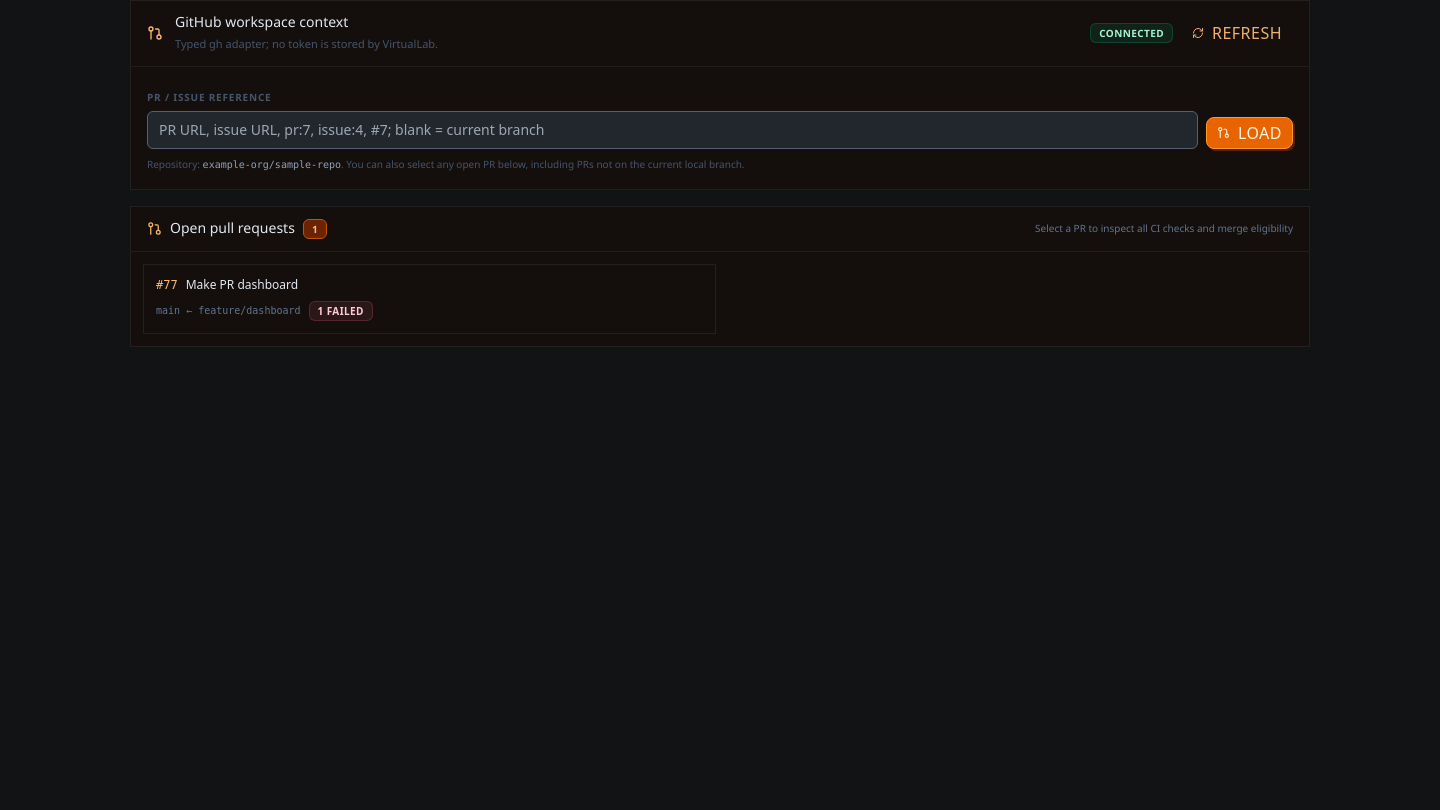
Test: GithubPanel › blocks merge when CI fails or is pending, or GitHub status is unknown
The width and height of the screenshot is (1440, 810).
Click the button with aria-label "Open PR #77".
click(242, 284)  # box [143,264,716,334]
(page scrolled)
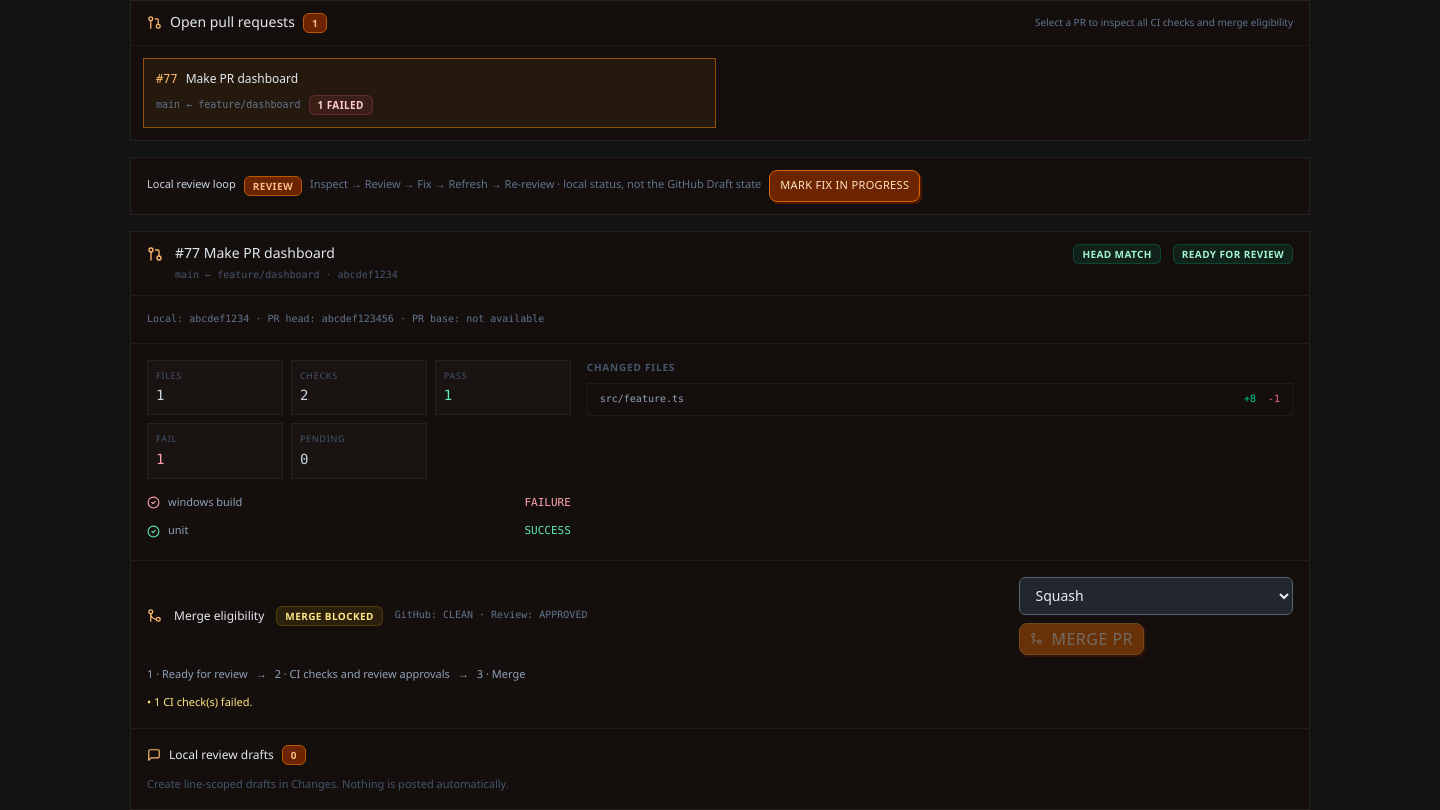
Expected: the text "windows build" is shown, [168,494,242,510]
Expected: the button "Merge PR" is disabled, [1020,622,1144,654]
Expected: the list item "• 1 CI check(s) failed." is shown, [147,695,252,710]
